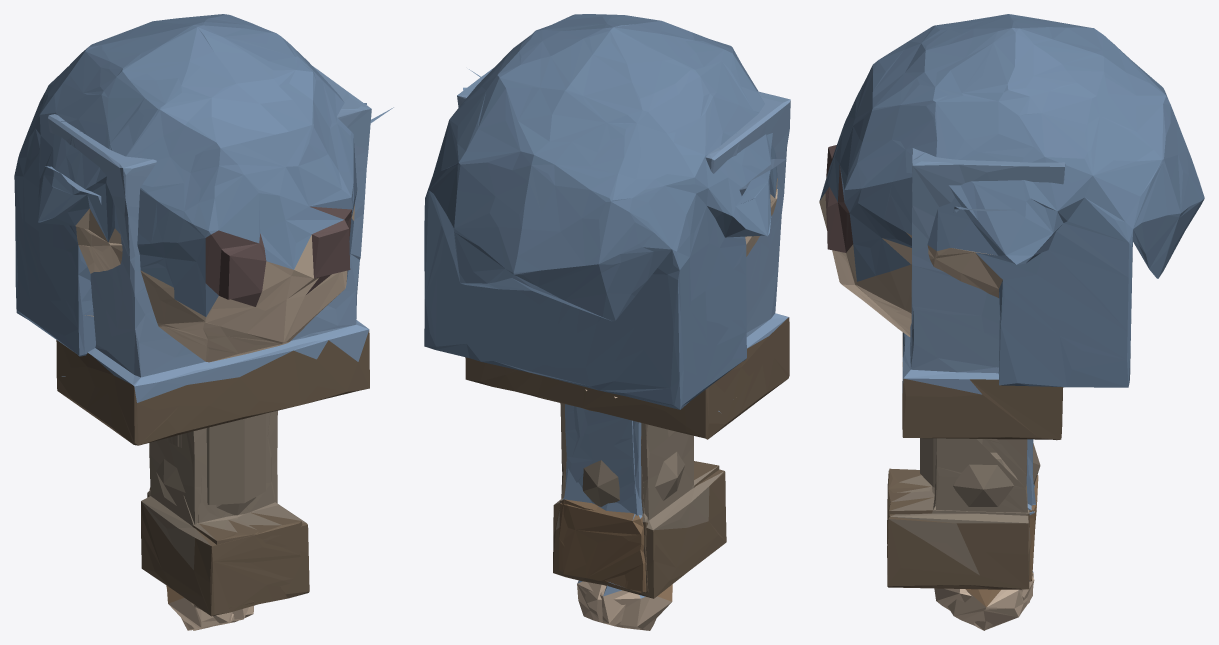
File: archer.glb
3 renders of one model, left to right at view 1: azimuth 30°, elevation 25°; view 2: azimuth 150°, elevation 25°; view 3: azimuth 270°, elevation 25°, orthographic. The views are drawn at different scales.
Parts seen in each view (by area): view 1: head, torso, legL_l, legL_u, legR_l, armL_l, legR_u; view 2: head, torso, legL_l, armR_l, armR_u, legR_l, armL_l, legL_u, armL_u; view 3: head, torso, legR_l, legR_u, armR_l, legL_l, armL_l, legL_u.
Boxes of the visible parts, x1,y1,x2,y2 form: head: (14,14,357,376); torso: (45,66,393,445); legL_l: (141,455,302,616); legL_u: (149,412,271,504); legR_l: (147,459,309,607); armL_l: (166,585,248,630); legR_u: (168,410,277,503); head: (424,14,777,412); torso: (457,68,790,439); legL_l: (559,446,726,598); armR_l: (560,475,655,630); armR_u: (565,404,635,503); legR_l: (553,452,719,593); armL_l: (559,468,672,629); legL_u: (641,423,693,484); armL_u: (572,406,641,515); head: (819,14,1204,387); torso: (902,148,1065,440); legR_l: (887,443,1040,589); legR_u: (936,438,1027,509); armR_l: (947,475,1038,629); legL_l: (887,467,1029,557); armL_l: (934,485,1037,630); legL_u: (920,438,1025,487).
Bounding box in the file's own units: 0.8522 × 1.48 × 0.8718.
